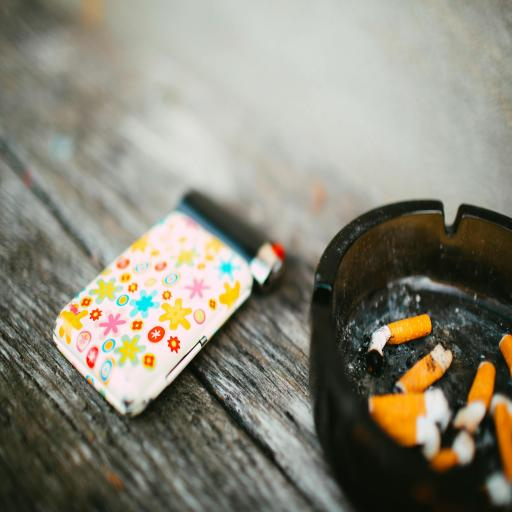lighter: (56, 209, 268, 397)
